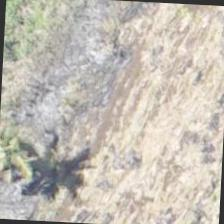Kelapa_Sawit: (0, 119, 67, 213)
